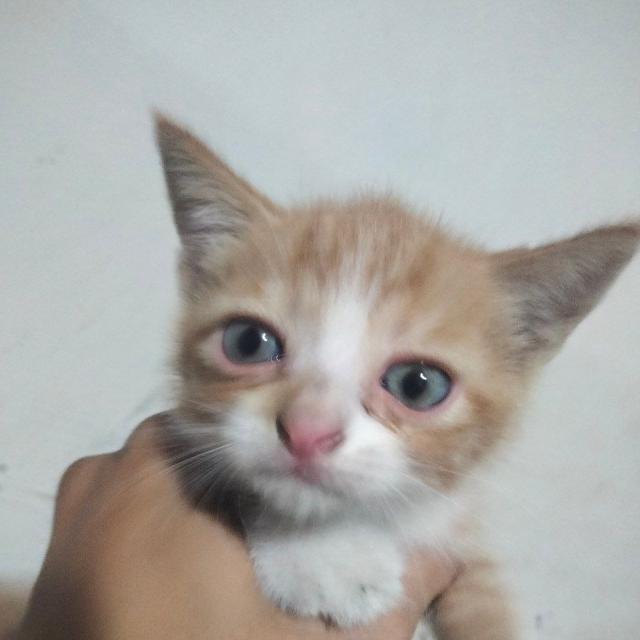da khoe manh: (157, 135, 549, 462)
